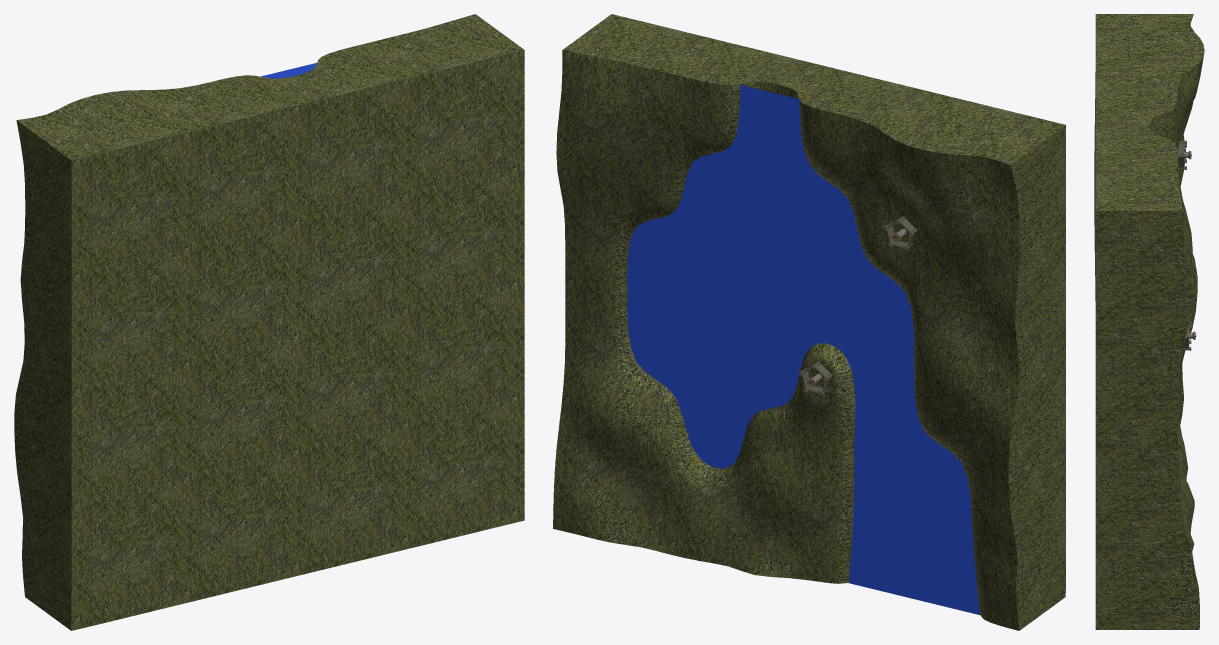
File: castles.DAE
3 views of the same model, side by side, from view 1: azimuth 30°, elevation 25°; view 2: azimuth 150°, elevation 25°; view 3: azimuth 270°, elevation 25° (orthographic). The views are drawn at different scales.
Visible parts, largest first — view 1: Ground; view 2: Ground, Water; view 3: Ground.
Part boxes in pixels (x1,y1,x2,y2): Ground: [14, 14, 524, 630]; Ground: [553, 14, 1065, 630]; Water: [627, 85, 980, 615]; Ground: [1094, 14, 1204, 629].
Bounding box in the file's own units: 1267 × 300 × 1257.
